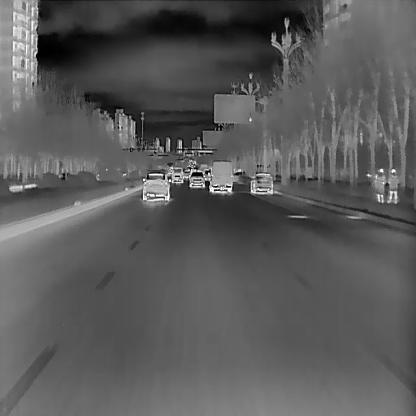car: (140, 172, 169, 202), (208, 159, 233, 193), (249, 172, 273, 195), (373, 168, 384, 202), (387, 168, 397, 202), (187, 171, 205, 187), (170, 167, 183, 183)
